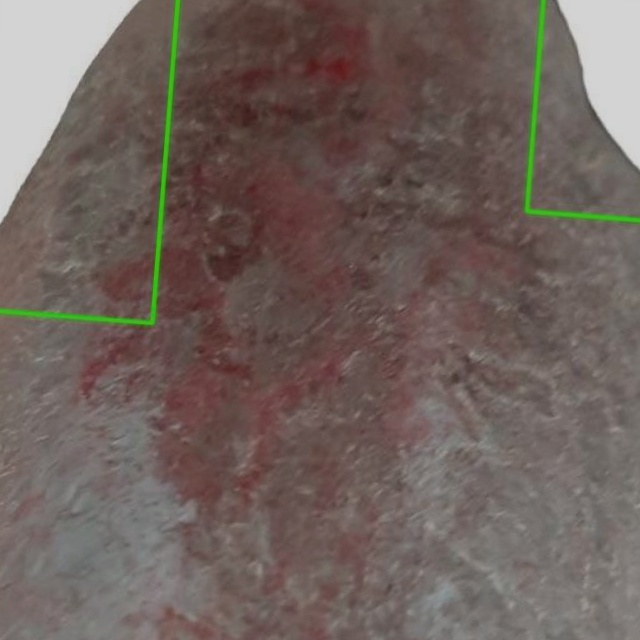Contact Dermatitis: (0, 0, 177, 323)
